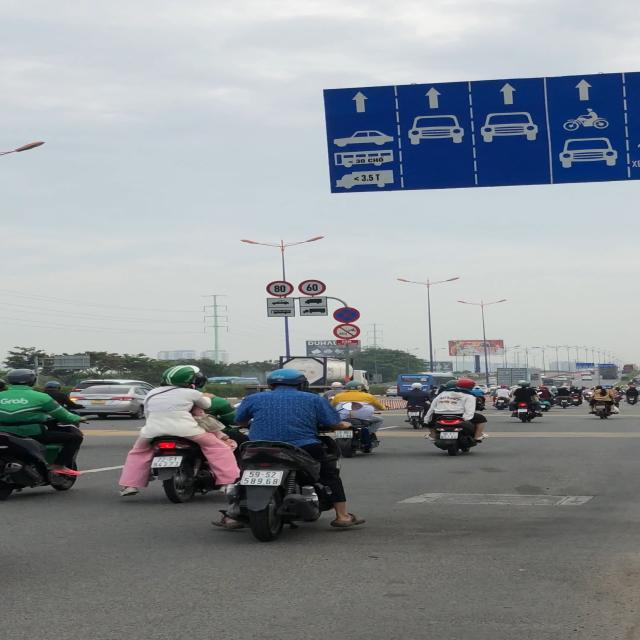Bien bao cam dung xe va do xe: (331, 307, 361, 323)
Bien bao toc do toi da cho phep: (297, 279, 327, 296), (266, 280, 296, 296)
